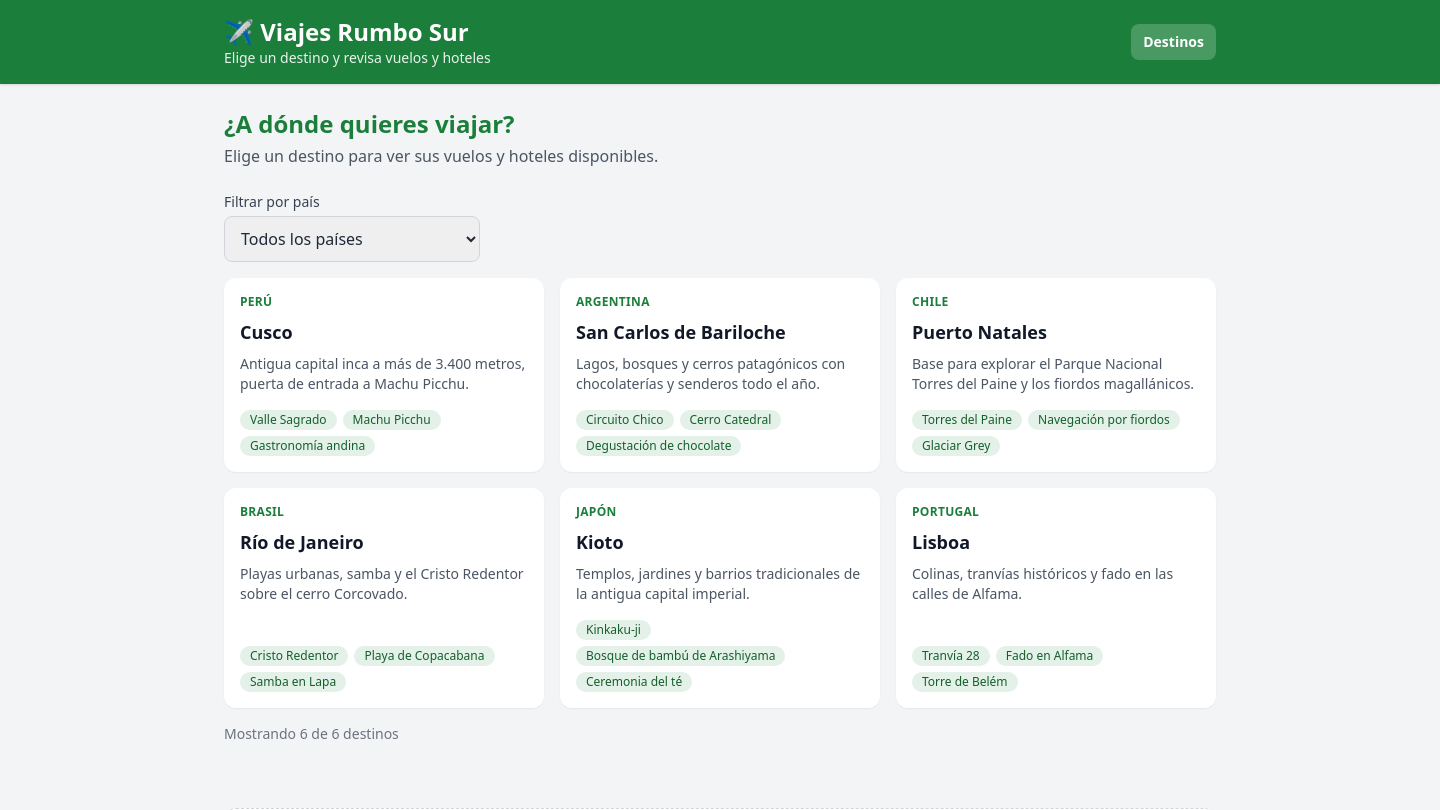
Test: Listado de destinos (REST) › filtra por país y el filtro queda en la URL
Expected: the heading "Cusco" is shown, left=240, top=320, right=293, bottom=344
Select "Chile" in the dropdown labelled "Filtrar por país" at (352, 239), box left=224, top=216, right=480, bottom=262
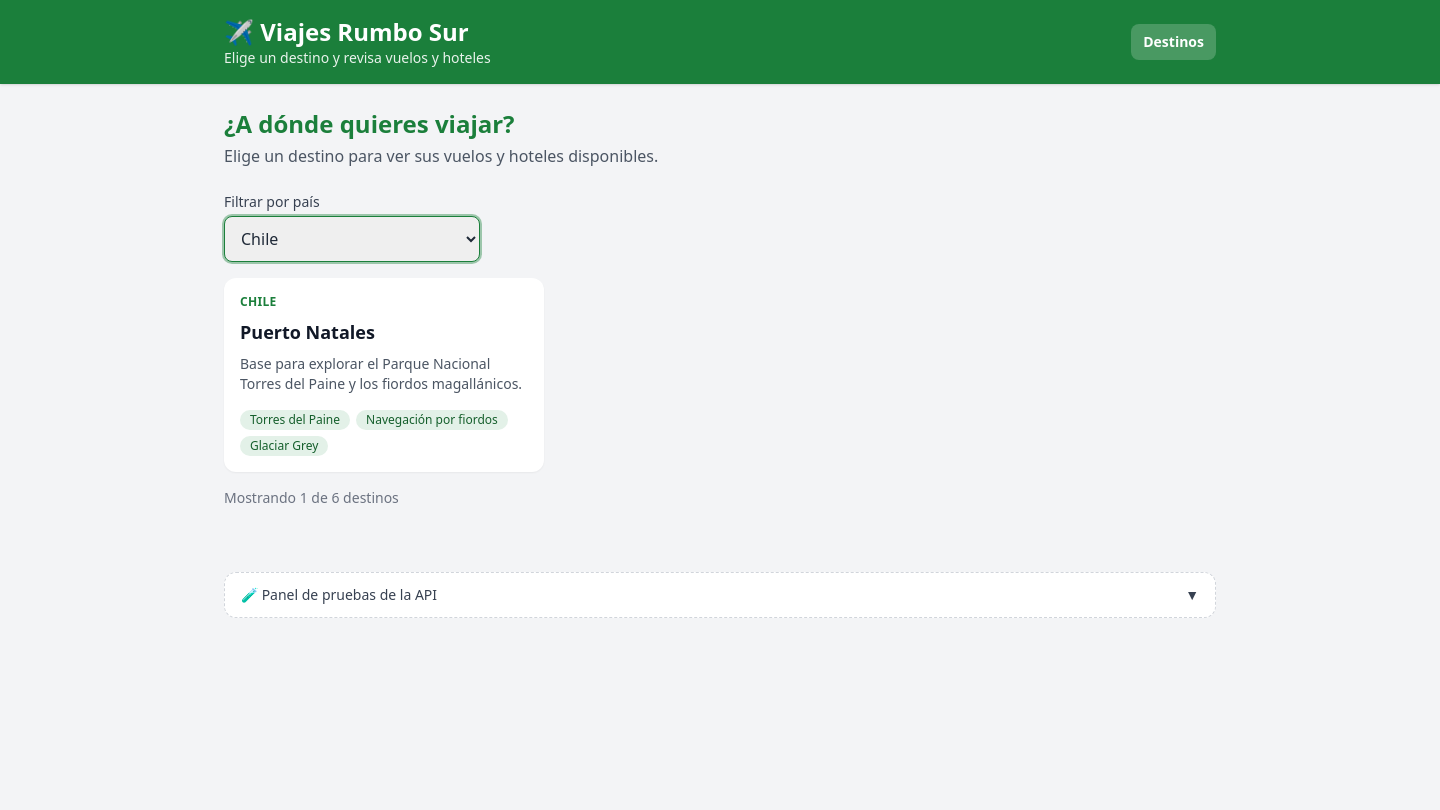
Expected: the heading "Puerto Natales" is shown, left=240, top=320, right=375, bottom=344
Expected: the link "Cusco" is gone
Expected: the text "Mostrando 1 de 6 destinos" is shown, left=224, top=488, right=399, bottom=507
